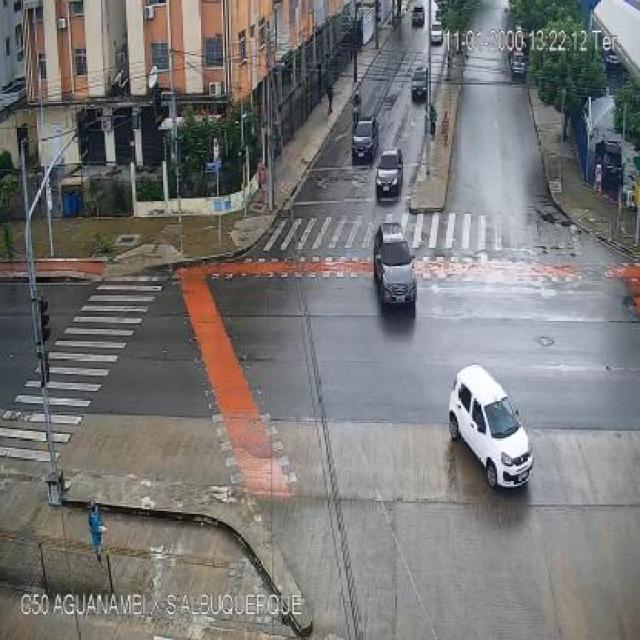Car: (448, 363, 534, 488), (372, 221, 418, 304), (374, 147, 406, 199), (349, 114, 382, 164), (594, 139, 626, 181), (409, 66, 432, 102), (509, 52, 526, 77), (411, 4, 427, 25), (430, 20, 443, 45)
Cycle: (351, 102, 362, 126)
